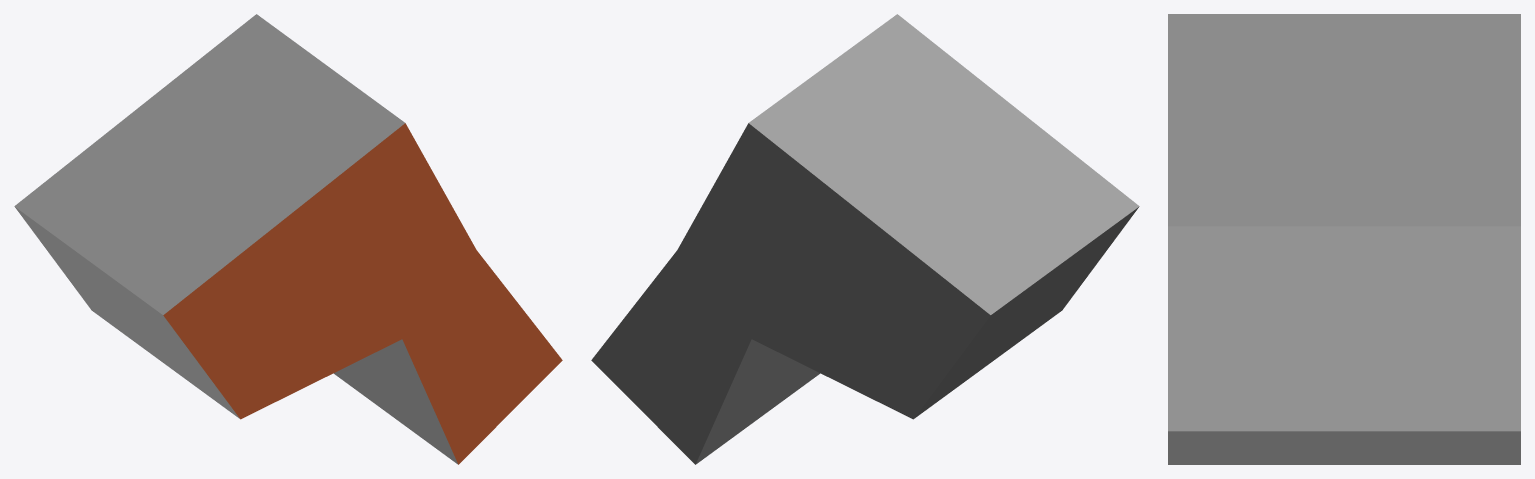
File: construction_2935_assumed_A_Casa_h6m.obj
3 views of the same model, side by side, from view 1: azimuth 30°, elevation 25°; view 2: azimuth 150°, elevation 25°; view 3: azimuth 270°, elevation 25° (orthographic). The views are drawn at different scales.
Visible parts, largest first — view 1: construction_2935_assumed_A_Casa; view 2: construction_2935_assumed_A_Casa; view 3: construction_2935_assumed_A_Casa.
Boxes of the visible parts, bbox=[...] form: construction_2935_assumed_A_Casa: bbox=[14, 14, 562, 464]; construction_2935_assumed_A_Casa: bbox=[591, 14, 1139, 464]; construction_2935_assumed_A_Casa: bbox=[1168, 14, 1520, 464].
Bounding box in the file's own units: 9.29 × 7.89 × 6.
